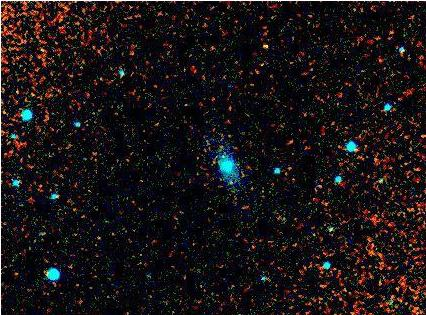star: (248, 32, 278, 62)
